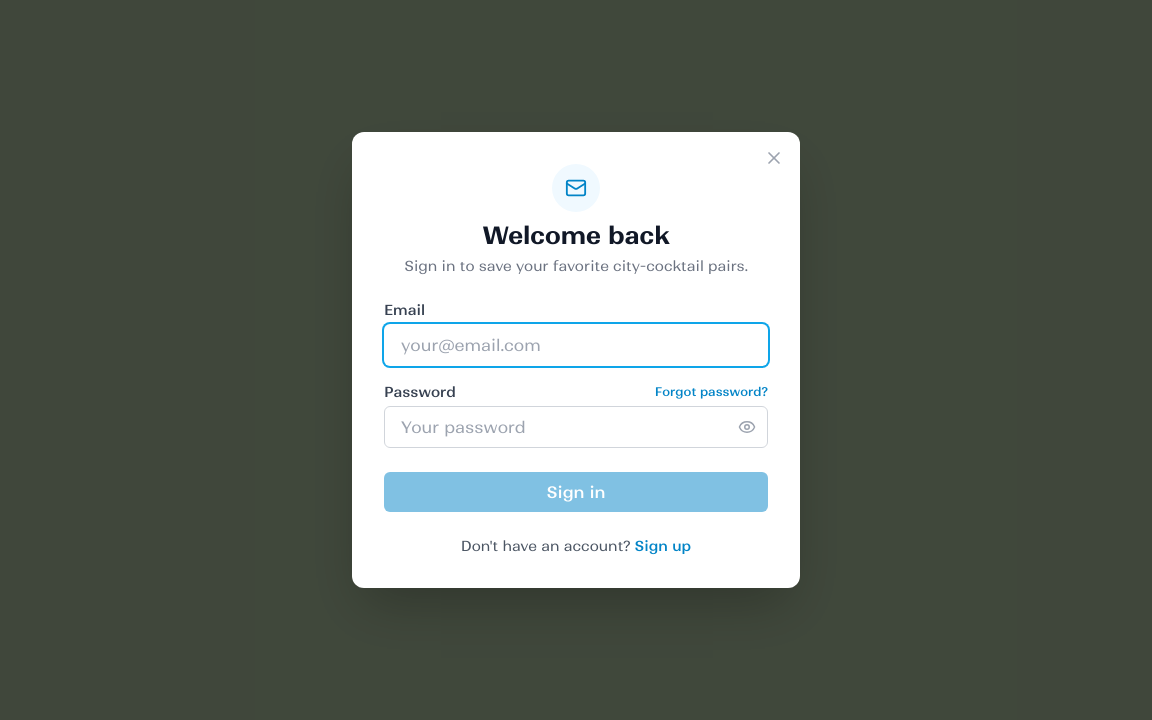
Test case: AuthModal (standard auth flows) › forgot password: shows the check-your-inbox message when email is configured
This screenshot has width=1152, height=720.
Click the button "Forgot password?": coordinates (711, 392) [655,384,768,400]
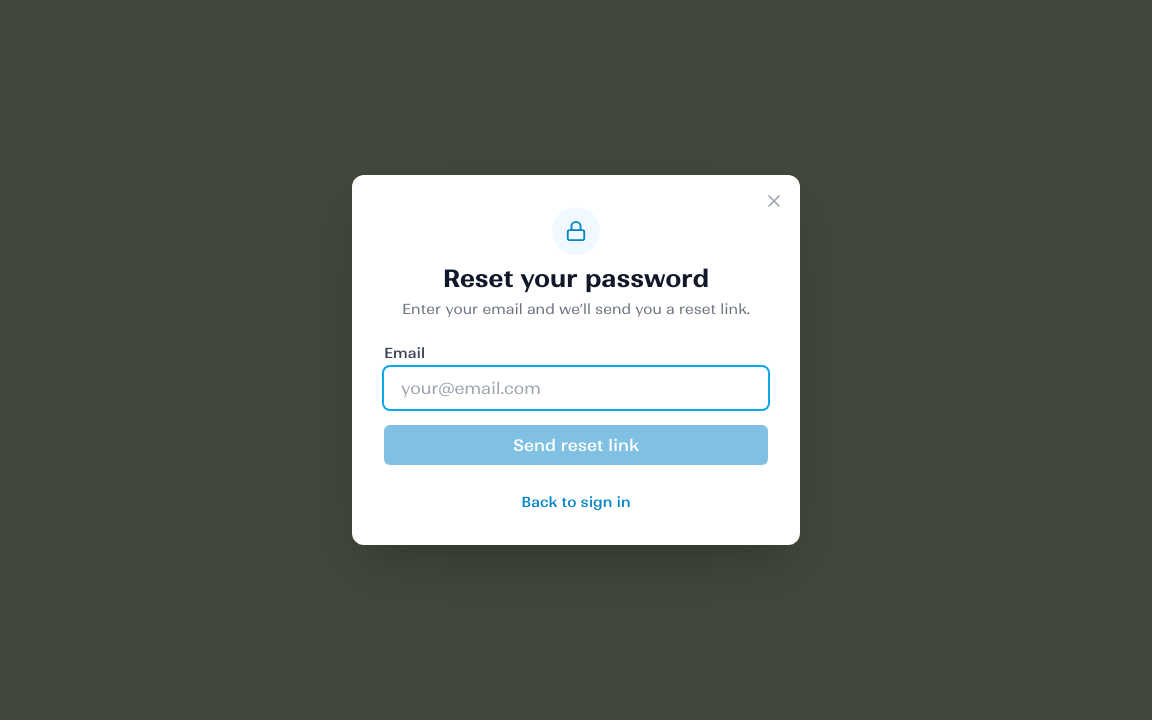
expect the button "Send reset link" is shown: met, box [384,425,768,465]
In the field labelled "Email": coordinates (576, 388) [384,367,768,409], type "me@example.com"
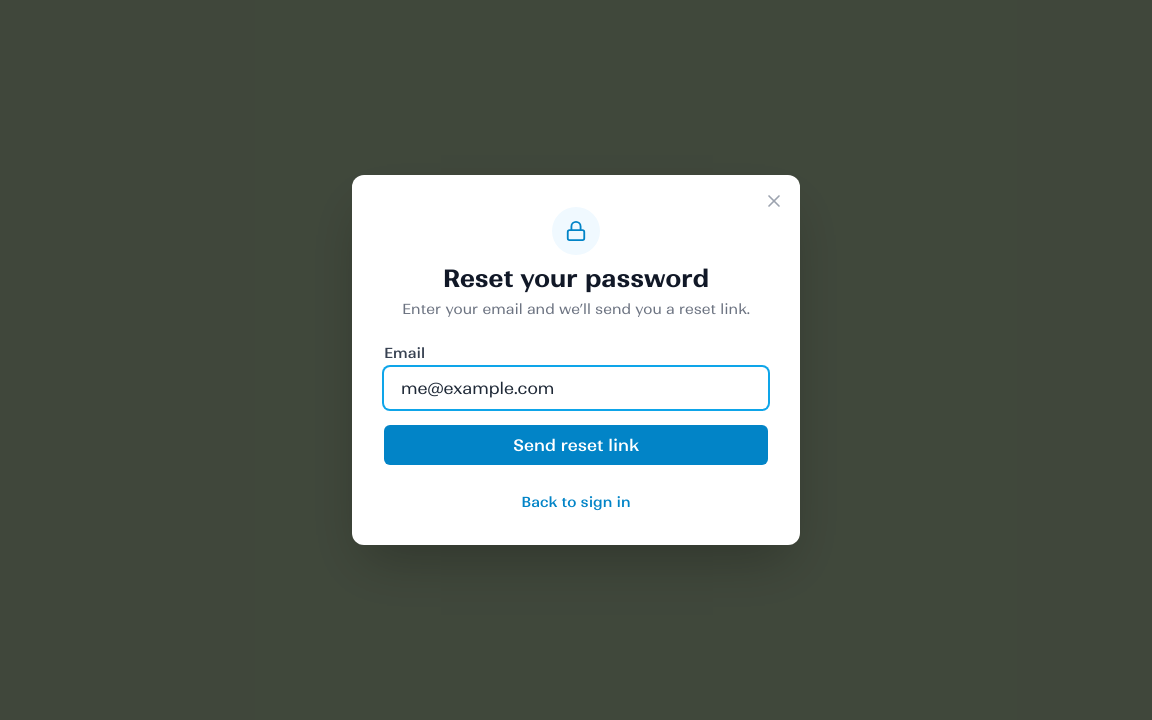
Click the button "Send reset link": coordinates (576, 445) [384,425,768,465]
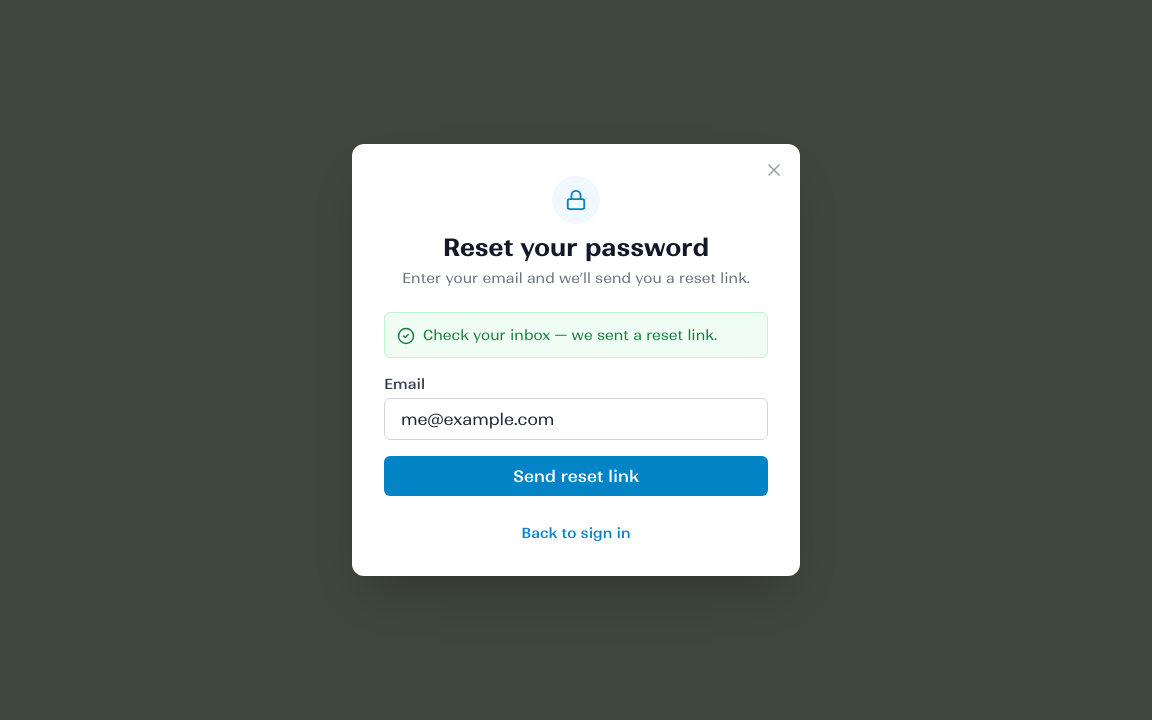
expect the text "Check your inbox — we sent a reset link." is shown: met, box [423,325,717,345]
